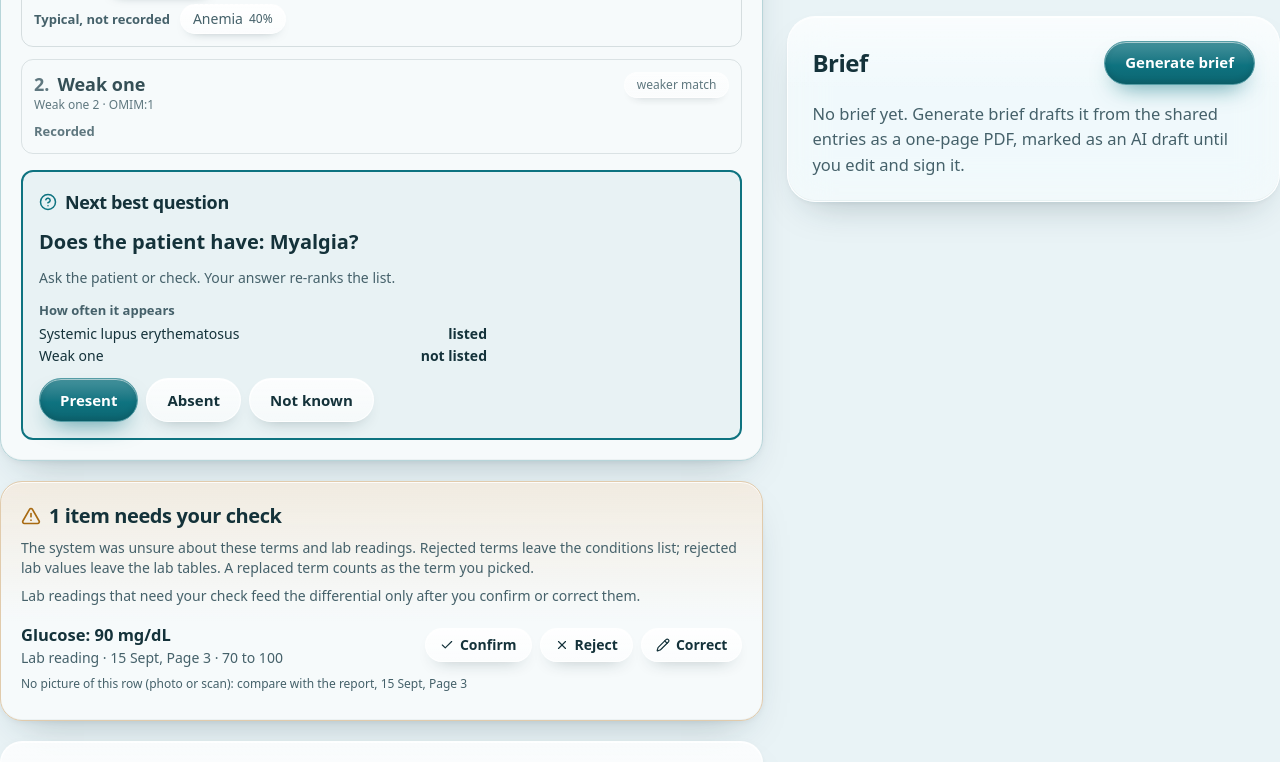
Test: clinic package page › answering the question re-ranks and records the finding
(page scrolled)
Click the button "Present". click: click(89, 400)
box: [39,378,138,422]
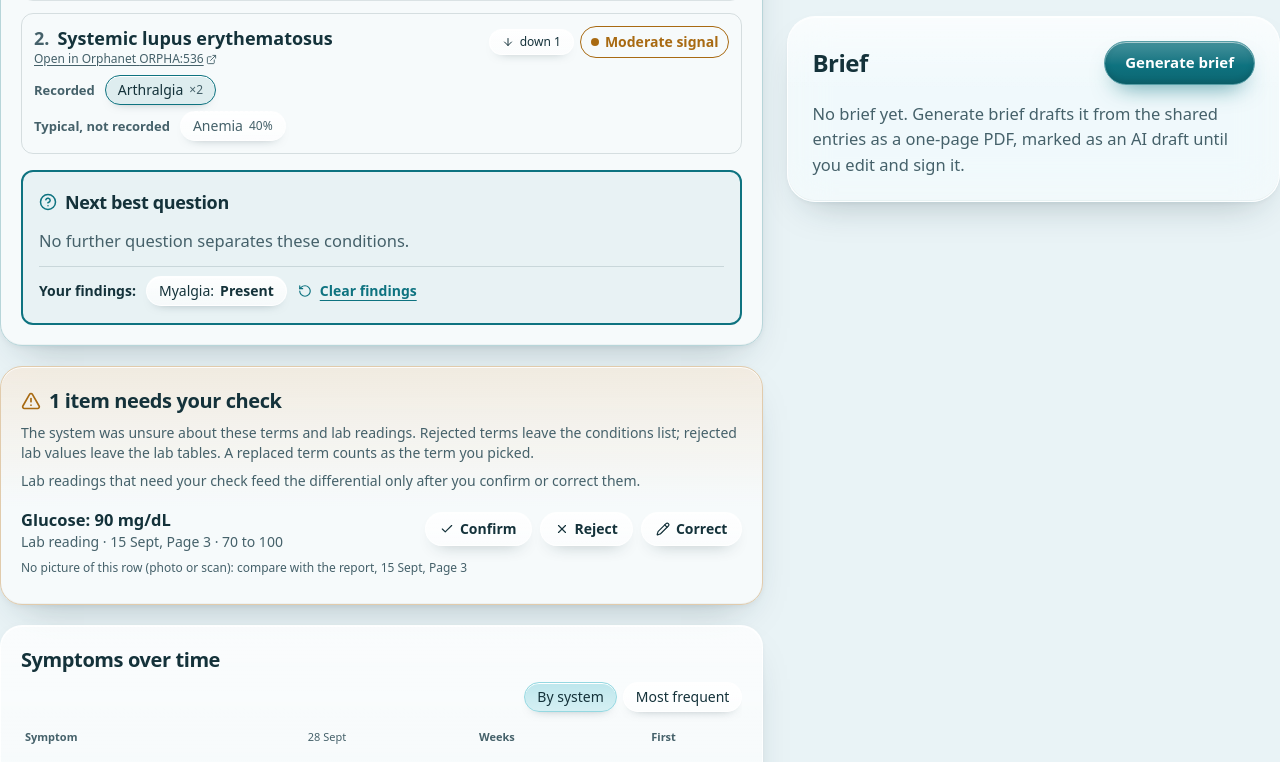
Check: the element with test id "ddx-findings" shows "Myalgia: Present", box [39,266,724,307]
Check: the text "down 1" is shown, box [489,29,574,55]
